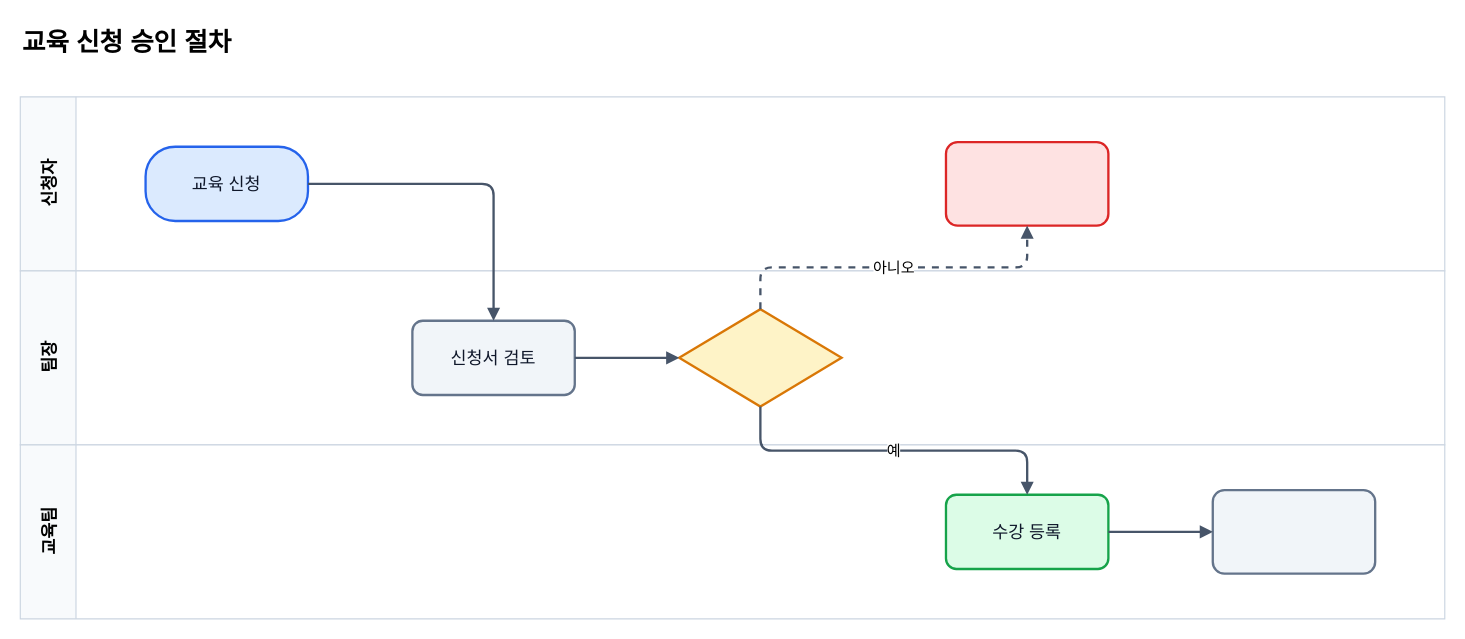
This 1465x639 diagram has some shape labels left out. Each missing label, with the centre of its shape:
"반려 사유 확인" belongs at point 1026,183.
"승인?" belongs at point 759,357.
"안내 메일 발송" belongs at point 1293,531.
